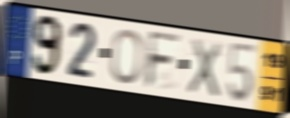2: (64, 21, 98, 82)
5: (226, 41, 258, 106)
9: (30, 13, 65, 77)
F: (143, 28, 183, 92)
O: (109, 28, 144, 86)
X: (185, 36, 223, 100)
